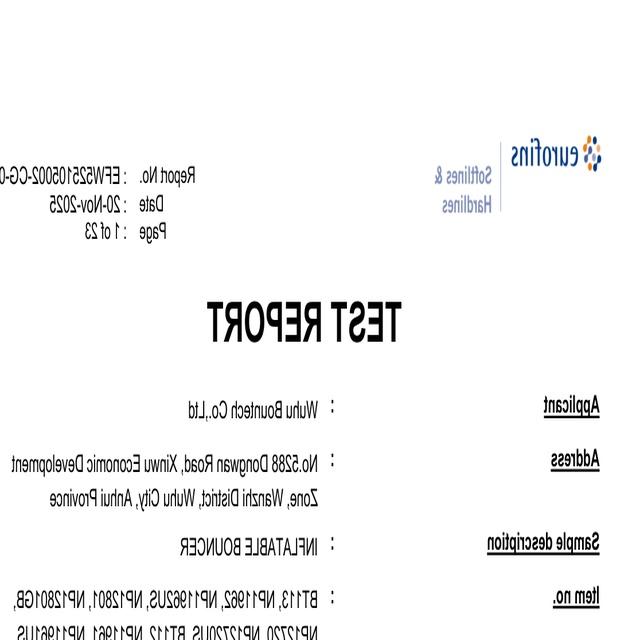eurofins: (502, 128, 610, 178)
